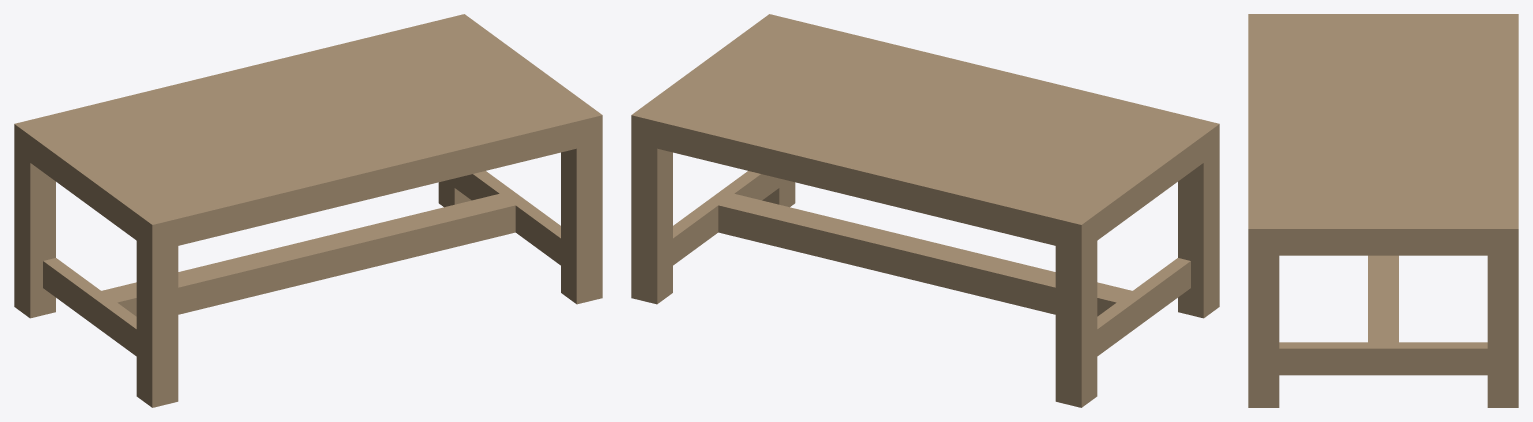
File: table.glb
3 views of the same model, side by side, from view 1: azimuth 30°, elevation 25°; view 2: azimuth 150°, elevation 25°; view 3: azimuth 270°, elevation 25° (orthographic). The views are drawn at different scales.
Parts seen in each view (by area): view 1: table(Clone); view 2: table(Clone); view 3: table(Clone).
Boxes of the visible parts, <box> form: table(Clone): <box>14,14,602,407</box>; table(Clone): <box>631,14,1219,407</box>; table(Clone): <box>1248,14,1518,407</box>.
Bounding box in the file's own units: 0.8415 × 0.3267 × 0.4474.
